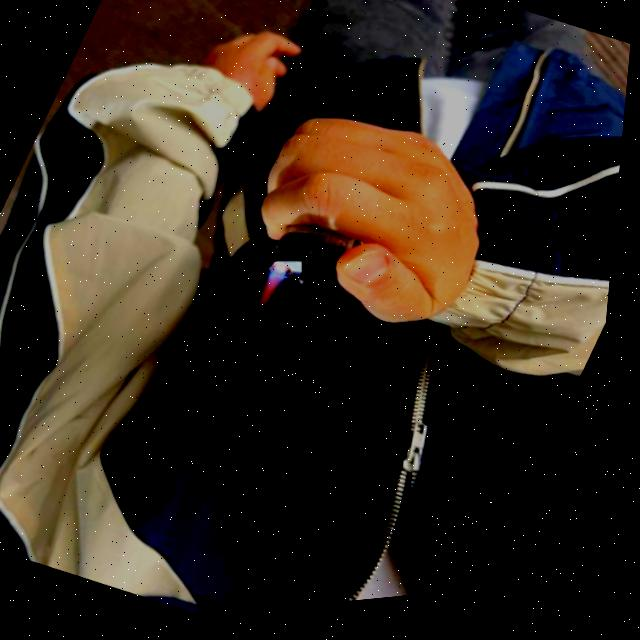Fire: (252, 262, 294, 326)
